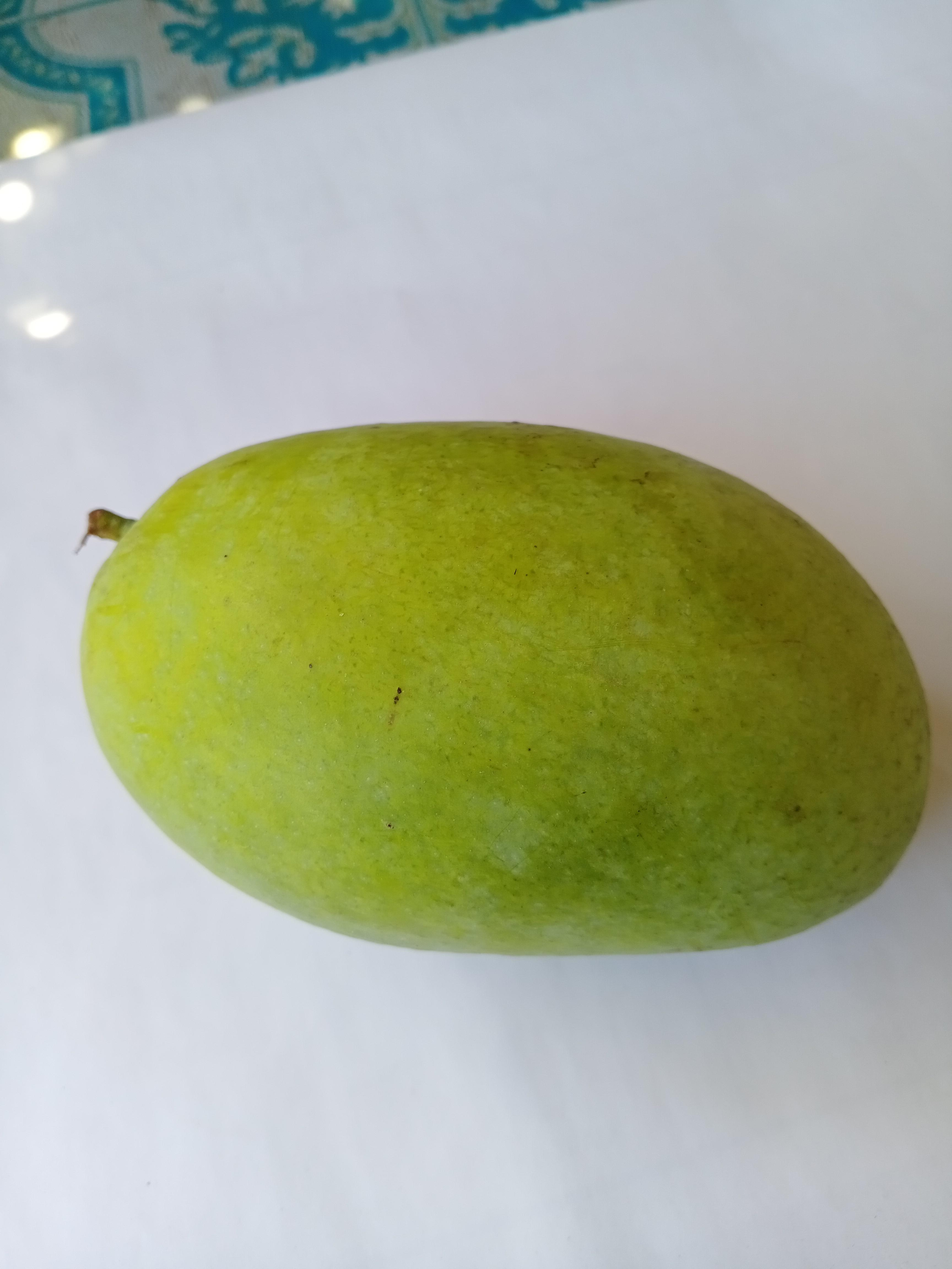Mango Unripe: (36, 397, 942, 986)
